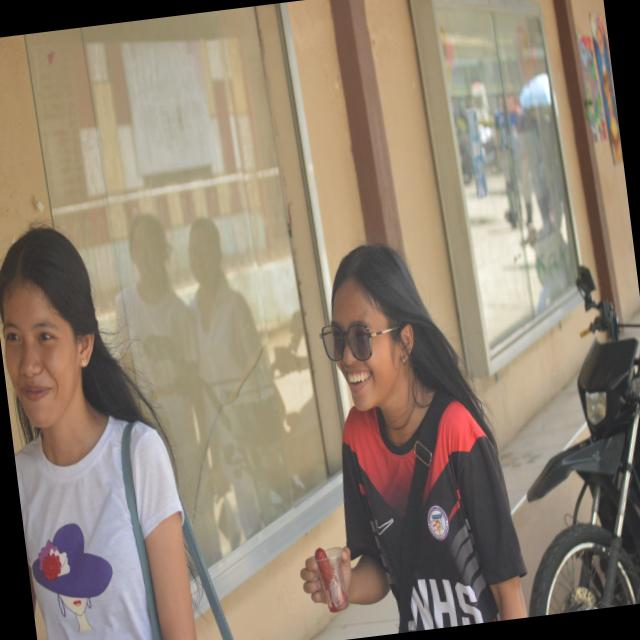person: (0, 227, 195, 639), (323, 244, 527, 630)
